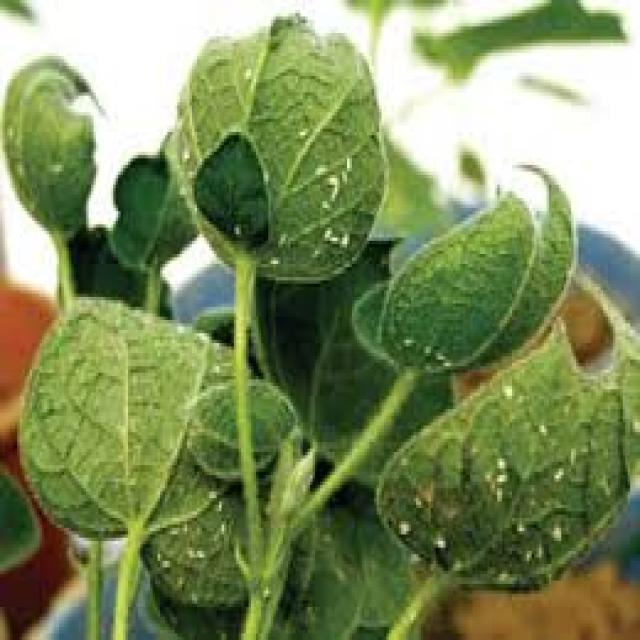Leaf Curl Virus: (130, 42, 592, 630)
